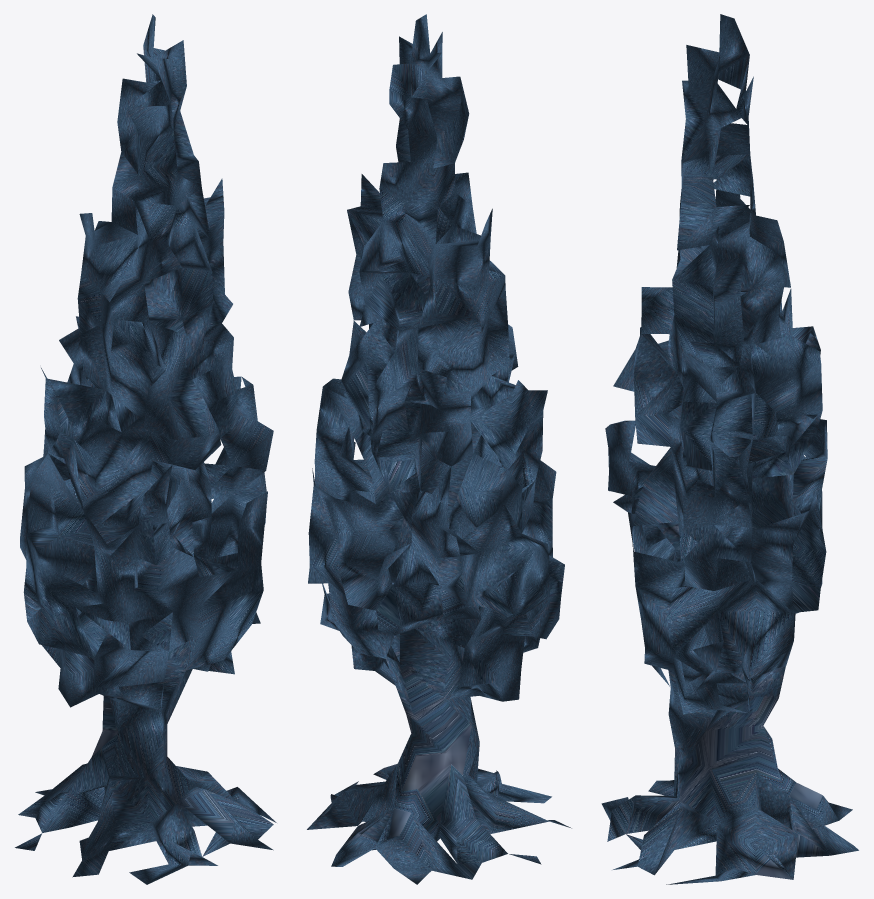
The model's file is cypress.glb.
The picture shows the model from 3 angles, left to right: view 1: azimuth 30°, elevation 25°; view 2: azimuth 150°, elevation 25°; view 3: azimuth 270°, elevation 25°; orthographic projection.
Bounding box in the file's own units: 0.5404 × 1.81 × 0.515.
Materials: 1 (1 with a texture image).
